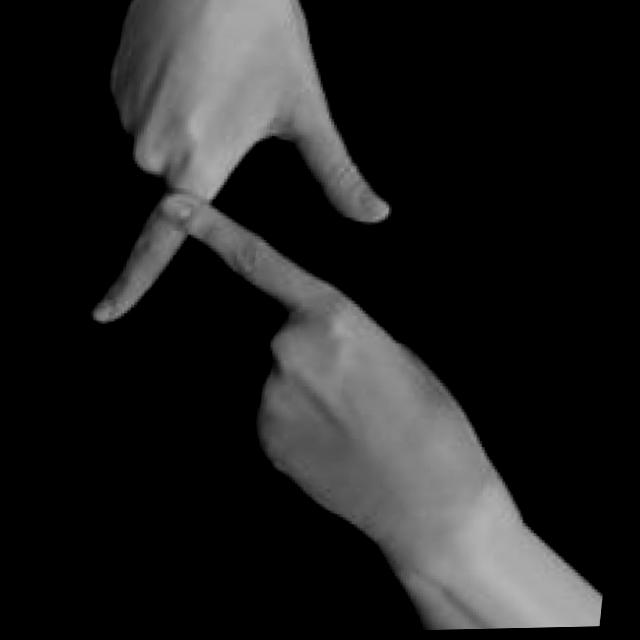F: (54, 0, 450, 549)
